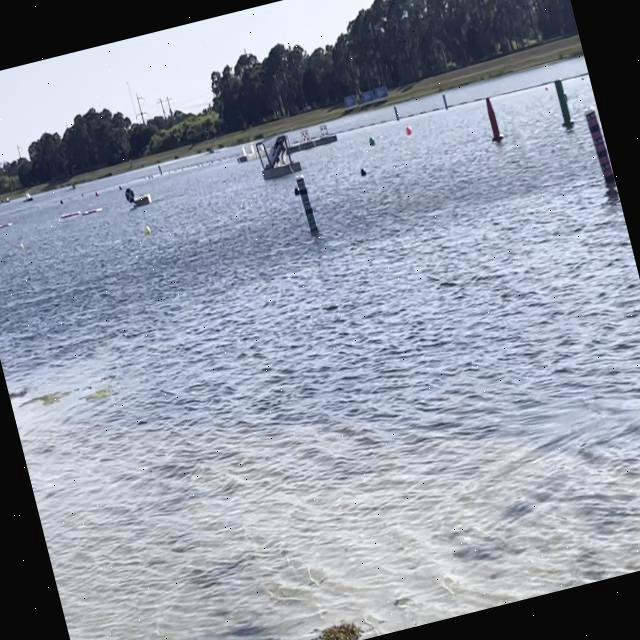buoy: (367, 134, 378, 148), (403, 122, 414, 136), (358, 165, 368, 177), (292, 184, 302, 196), (144, 224, 152, 236)
